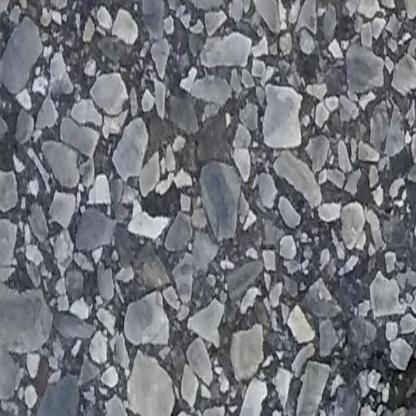Cracks: (337, 341, 416, 416)
